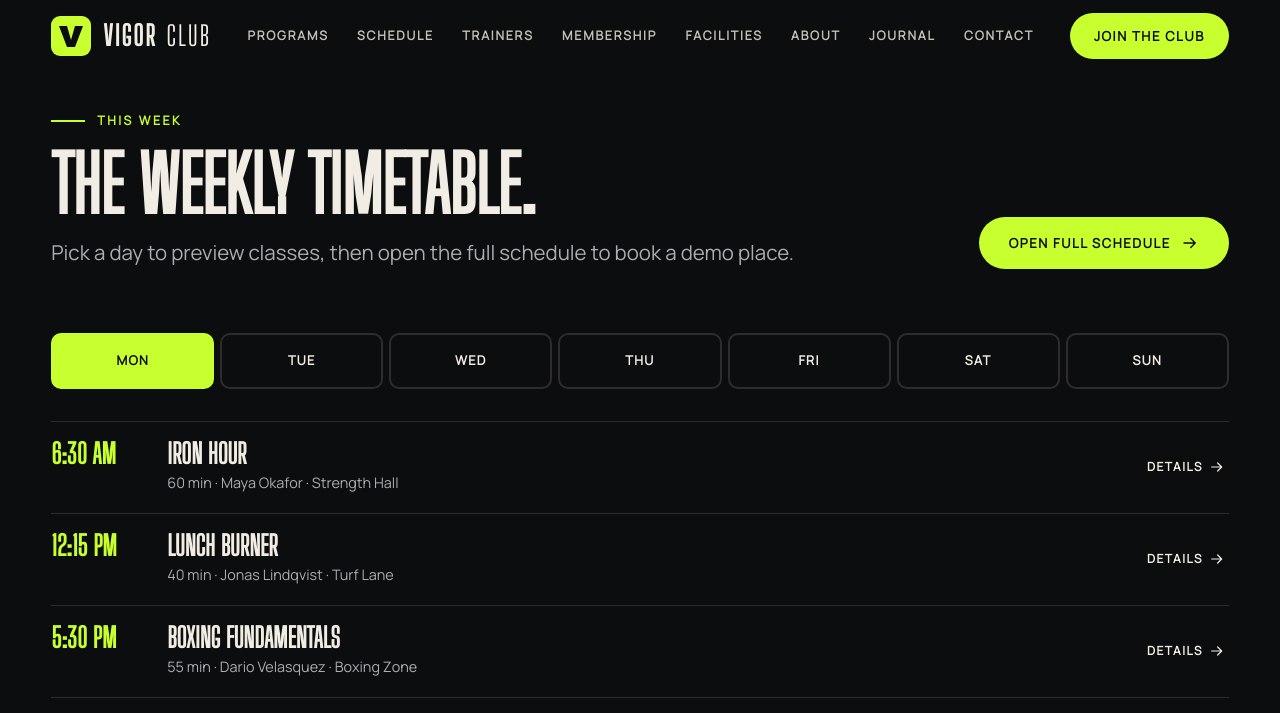
Test: mobile menu & layout › lets home day tabs switch the timetable preview
This screenshot has width=1280, height=713.
(page scrolled)
Step 1. Click the button "Sun" → x=1147, y=361, box [1066, 333, 1229, 389]
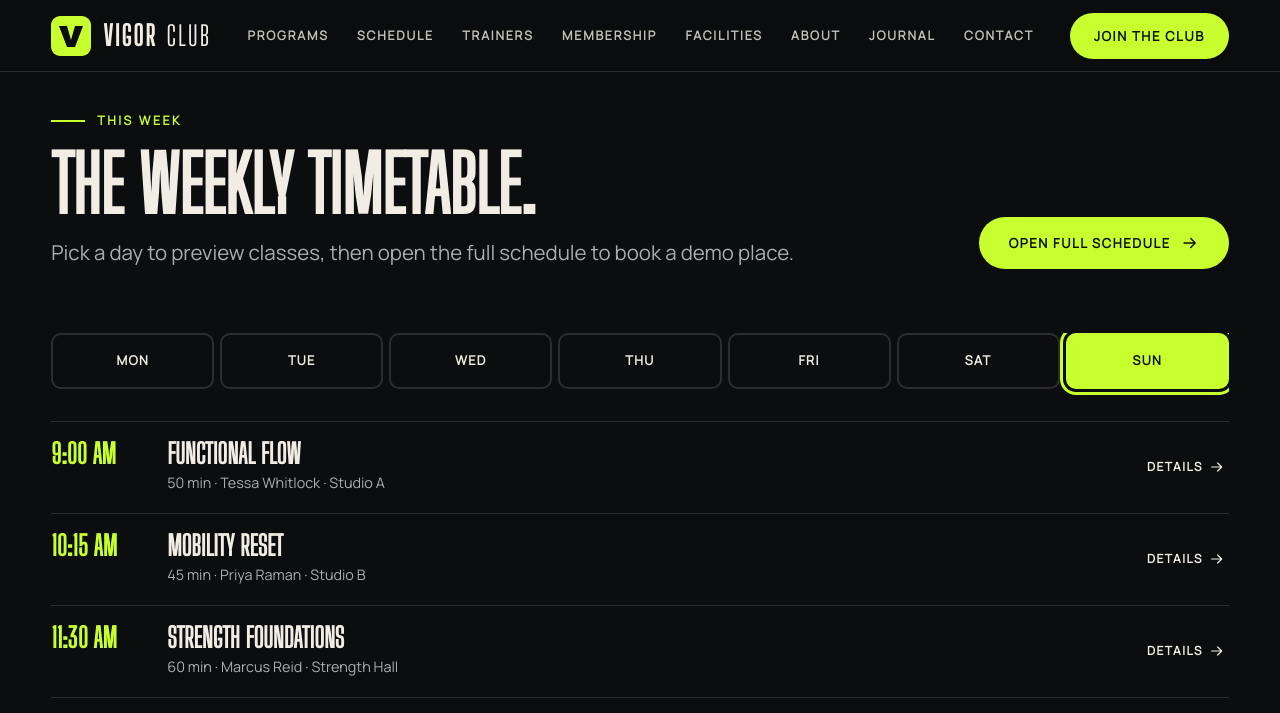
Result: the list named "Classes on Sunday" is shown at [51, 421, 1229, 698]
